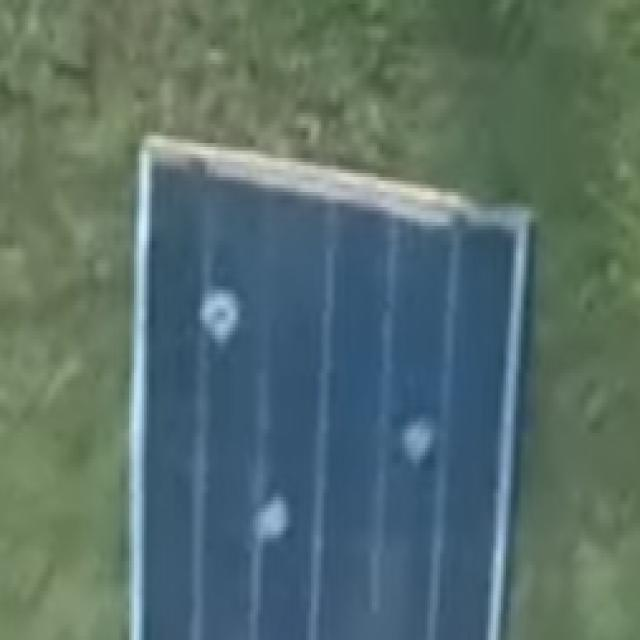Bird-drop: (176, 280, 258, 348), (385, 409, 454, 481), (242, 487, 311, 549)
